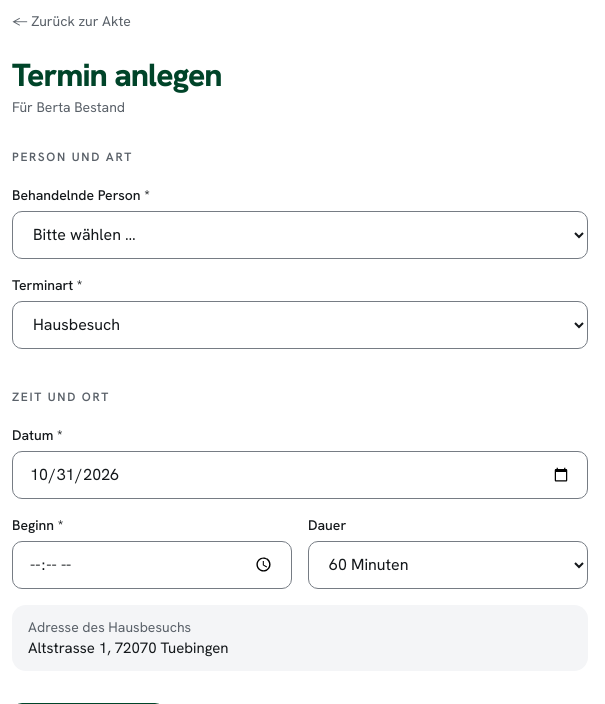
NewAppointmentPage › leitet das Ende aus dem Beginn ab (CAL-010a)
Type "10:15" into the time field labelled "Beginn *". click: (152,565)
box: [12,541,292,589]
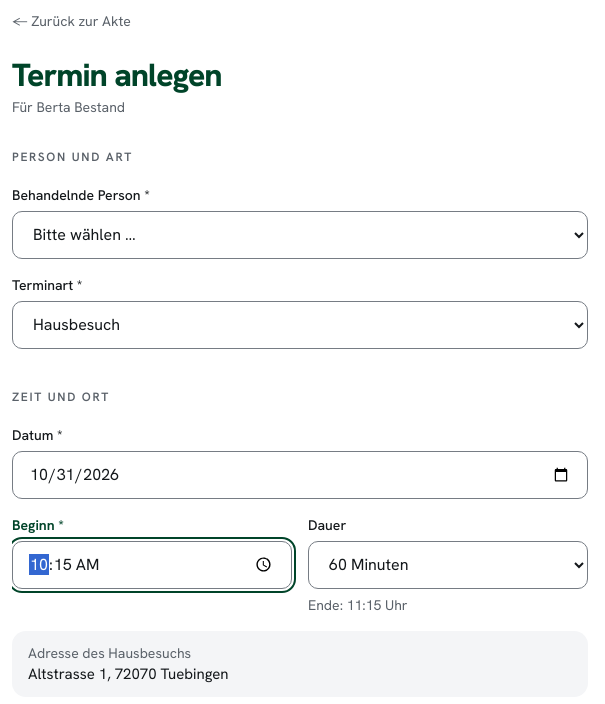
Expected: the dropdown labelled "Dauer" shows "60 Minuten", [308,541,588,589]
Expected: the text "Ende: 11:15 Uhr" is shown, [308,596,408,614]
